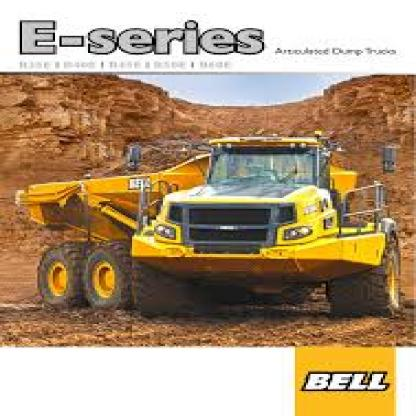dump_truck: (35, 109, 414, 318)
